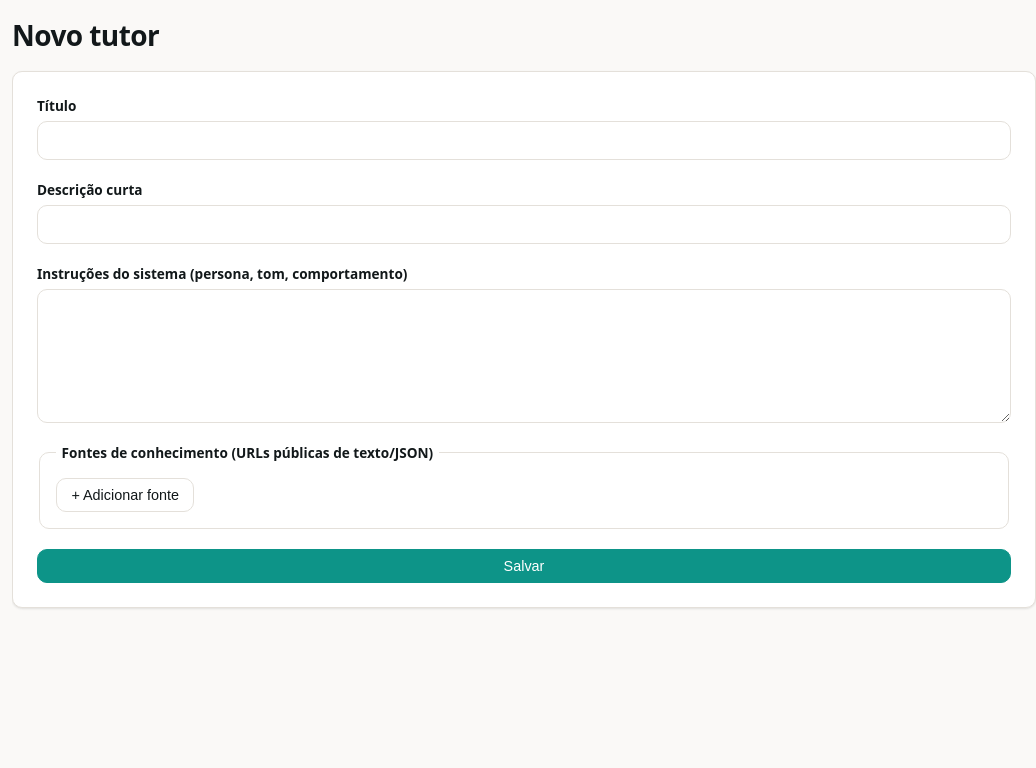
TutorFormPage › shows an error message when saving fails
In the field labelled "Título": (524, 141) [37, 121, 1011, 160], type "Tutor de Física"
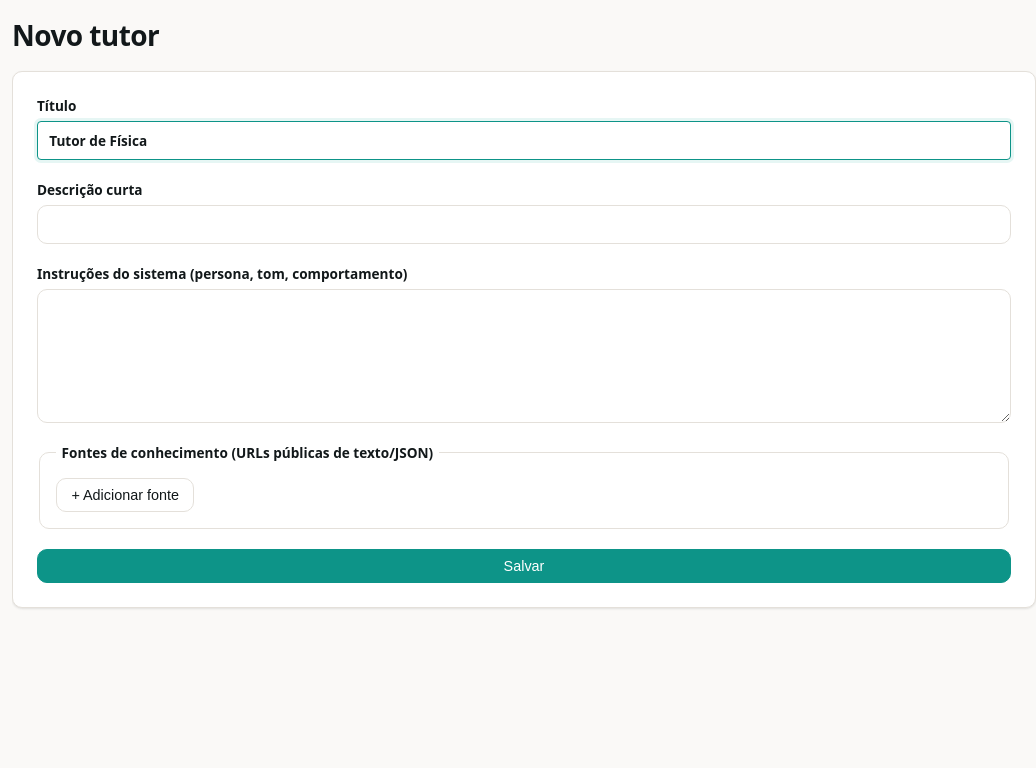
In the text box labelled "Instruções do sistema (persona, tom, comportamento)": (524, 356) [37, 289, 1011, 423], type "Seja claro."
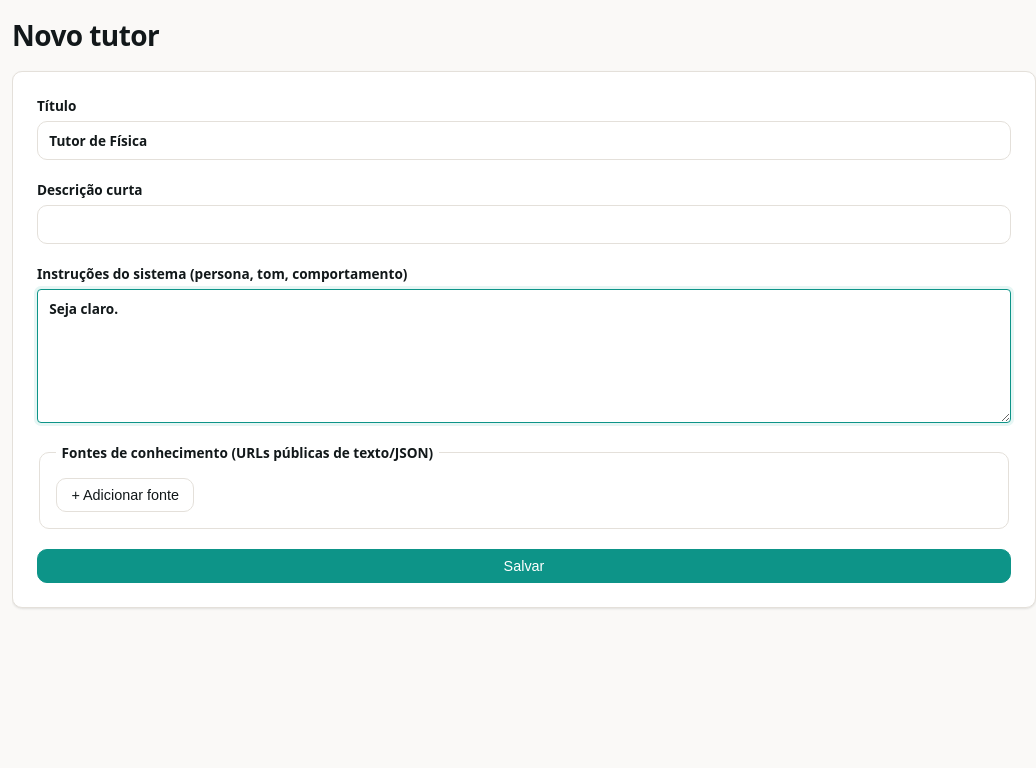
Click the button "Salvar": (524, 566) [37, 549, 1011, 583]
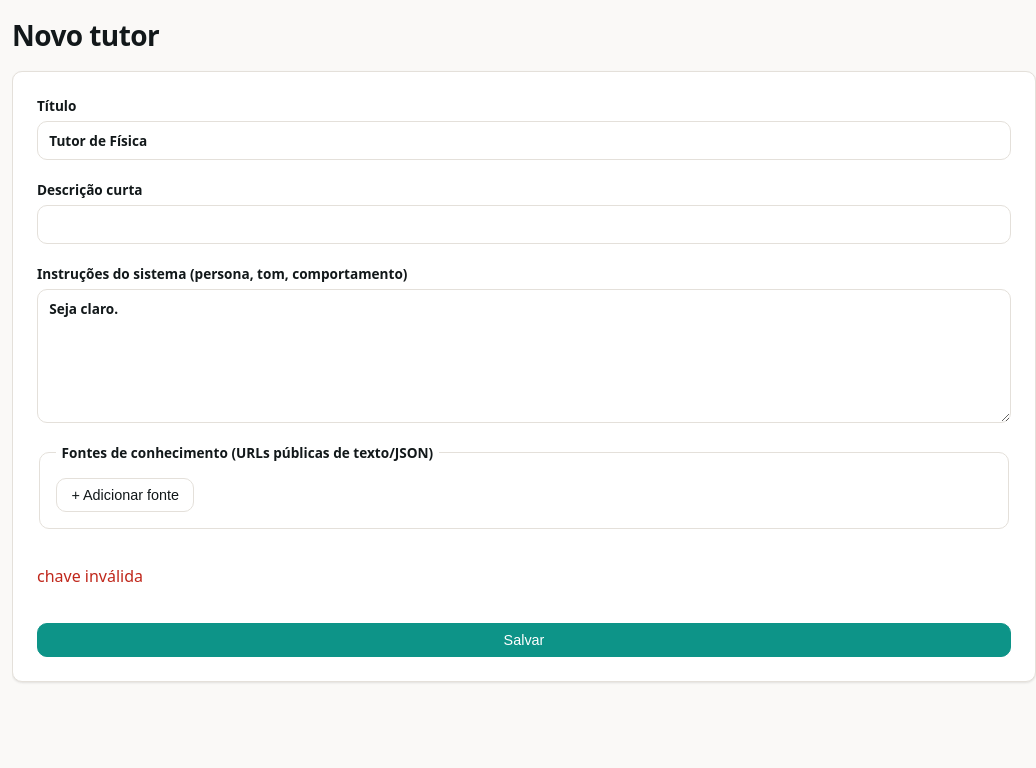
Expected: the message reads "chave inválida", [37, 565, 143, 587]
